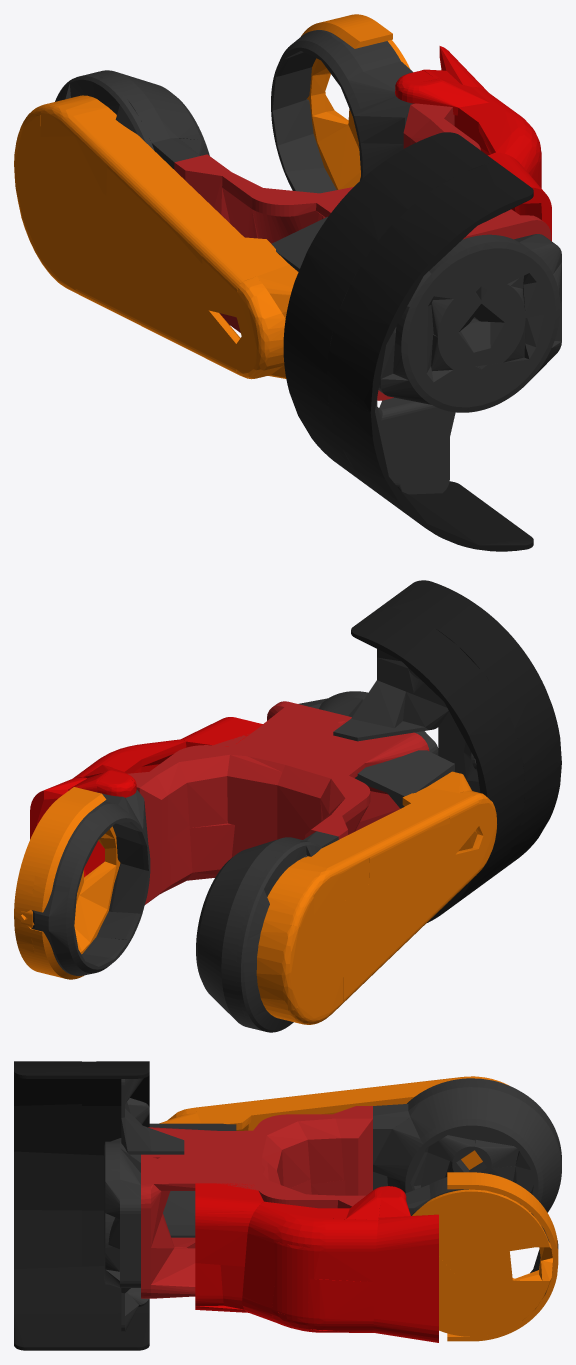
The model's file is LARM_LINK5_mesh.dae.
3 renders of one model, top to bottom at view 1: azimuth 30°, elevation 25°; view 2: azimuth 150°, elevation 25°; view 3: azimuth 270°, elevation 25°, orthographic. The views are drawn at different scales.
Visible parts, largest first — view 1: LARM_LINK5 (×12); view 2: LARM_LINK5 (×12); view 3: LARM_LINK5 (×12).
Part boxes in pixels (x1=…): LARM_LINK5 (×12): x1=14, y1=14, x2=561, y2=551; LARM_LINK5 (×12): x1=14, y1=580, x2=561, y2=1032; LARM_LINK5 (×12): x1=14, y1=1061, x2=561, y2=1350.
Size of the model in its own units: 0.137 by 0.123 by 0.222.
